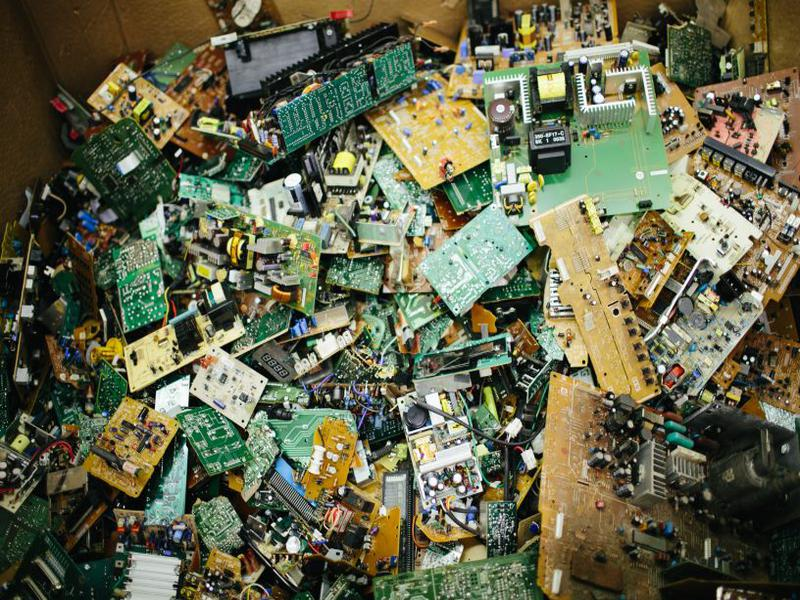circuit_board: (523, 364, 800, 600), (479, 47, 684, 226), (530, 195, 665, 406), (641, 257, 769, 405), (182, 194, 323, 322), (274, 41, 419, 155), (414, 201, 537, 318), (389, 390, 492, 511), (78, 394, 181, 501), (86, 61, 193, 150), (105, 234, 173, 337), (176, 403, 257, 479), (297, 414, 364, 502)
